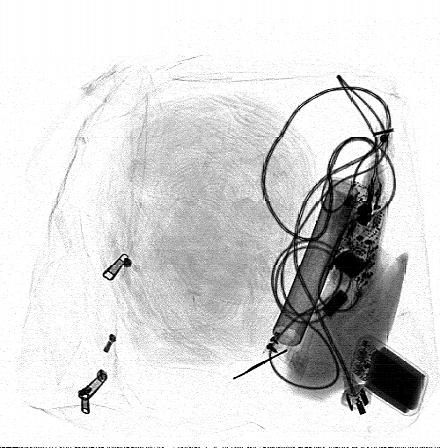Powerbank: (348, 333, 429, 417)
